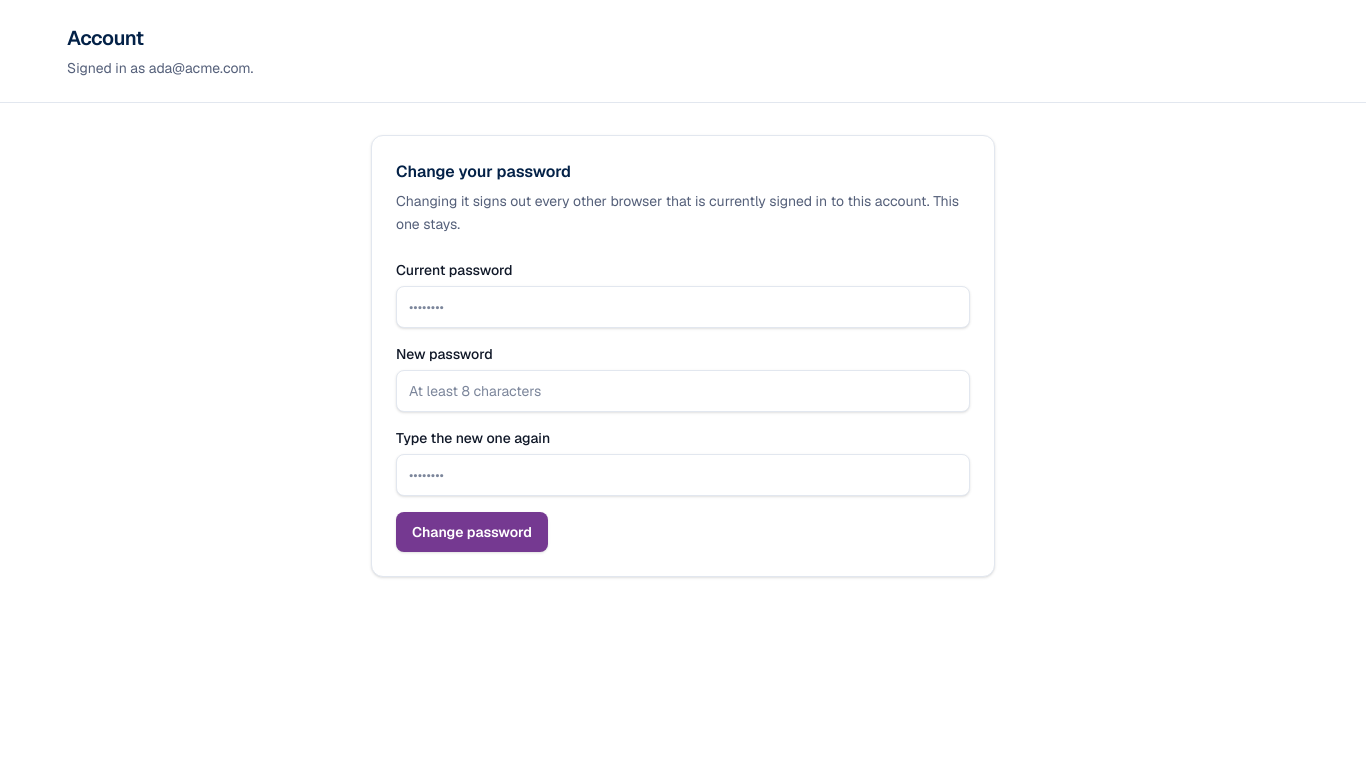
Test: the account screen › shows the server's refusal when the current password is wrong
Type "not-the-old-one" into the password field labelled "Current password" at (683, 306), box [396,286,970,328]
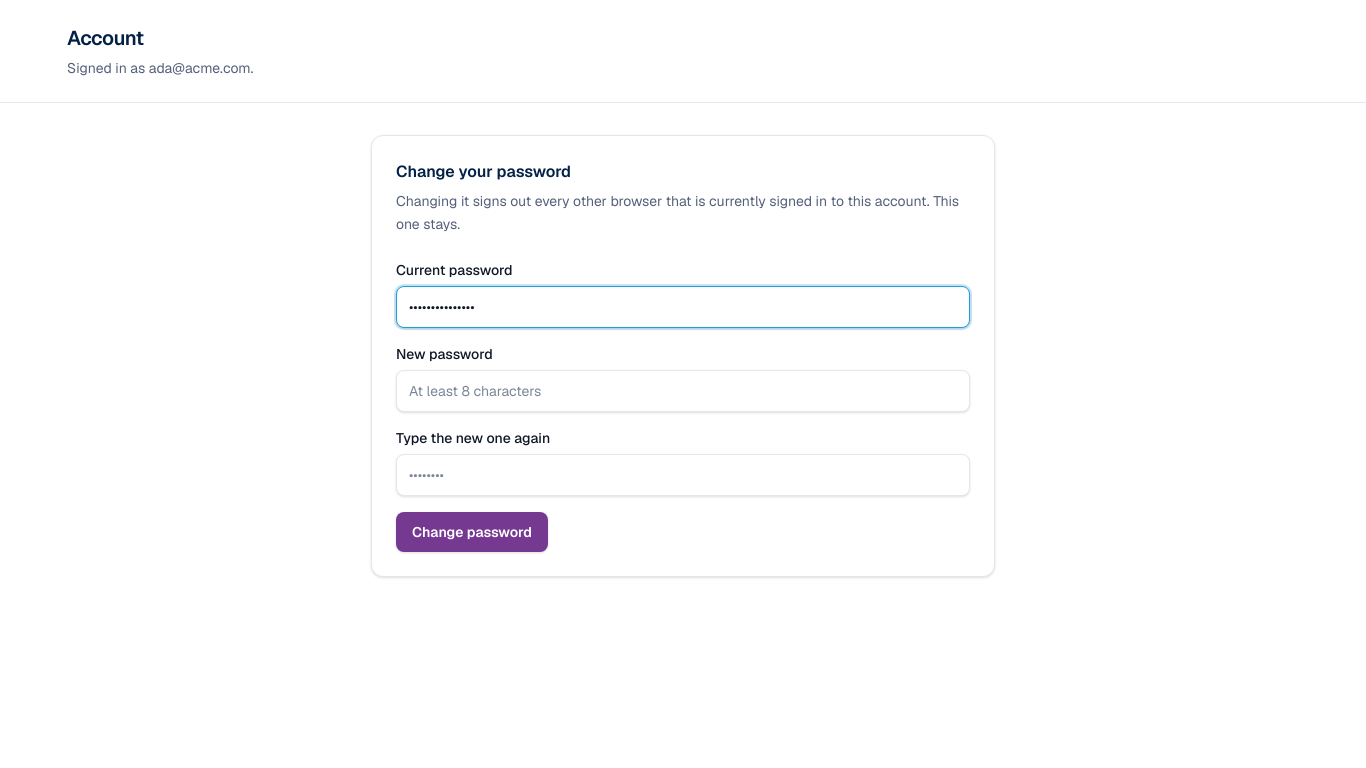
Type "a-much-better-one" into the password field labelled "New password" at (683, 390), box [396,370,970,412]
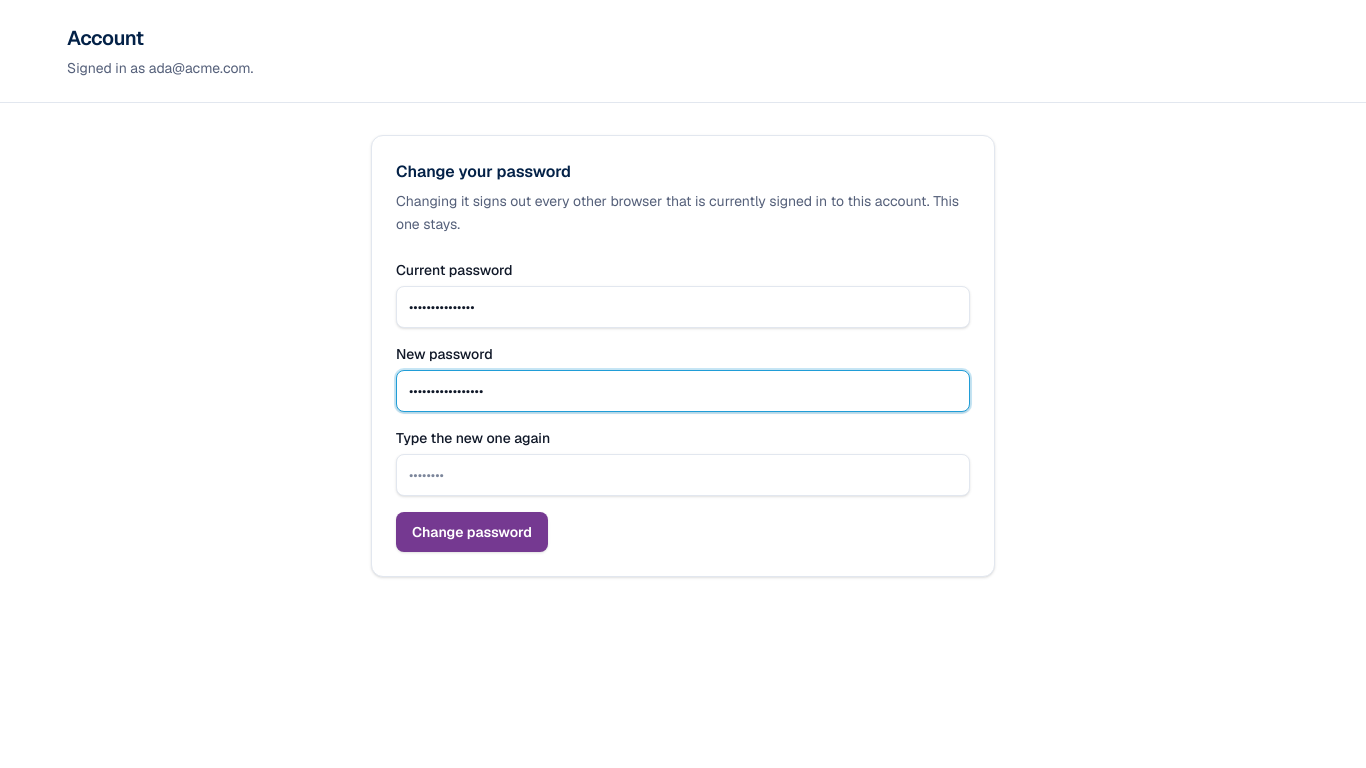
Type "a-much-better-one" into the password field labelled "Type the new one again" at (683, 474), box [396,454,970,496]
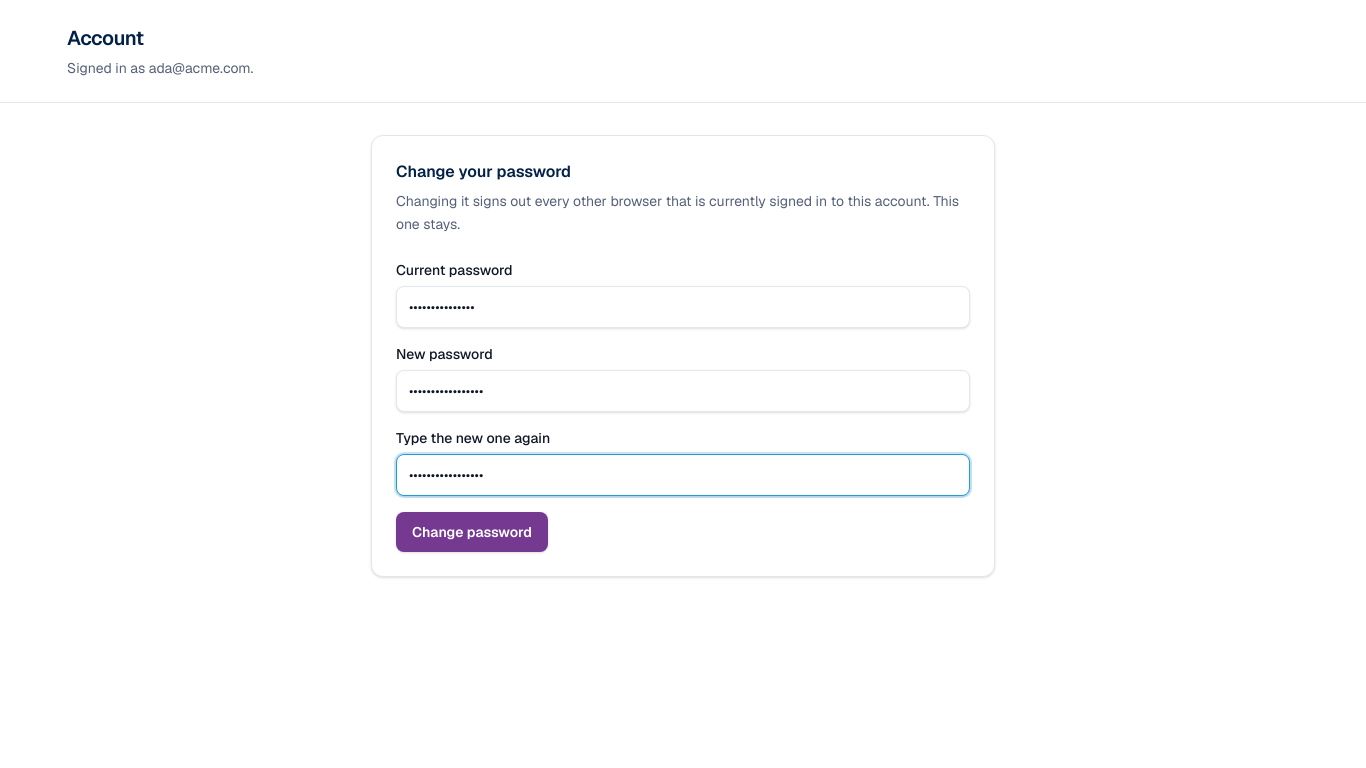
Click the button "Change password" at (472, 532), box [396,512,548,552]
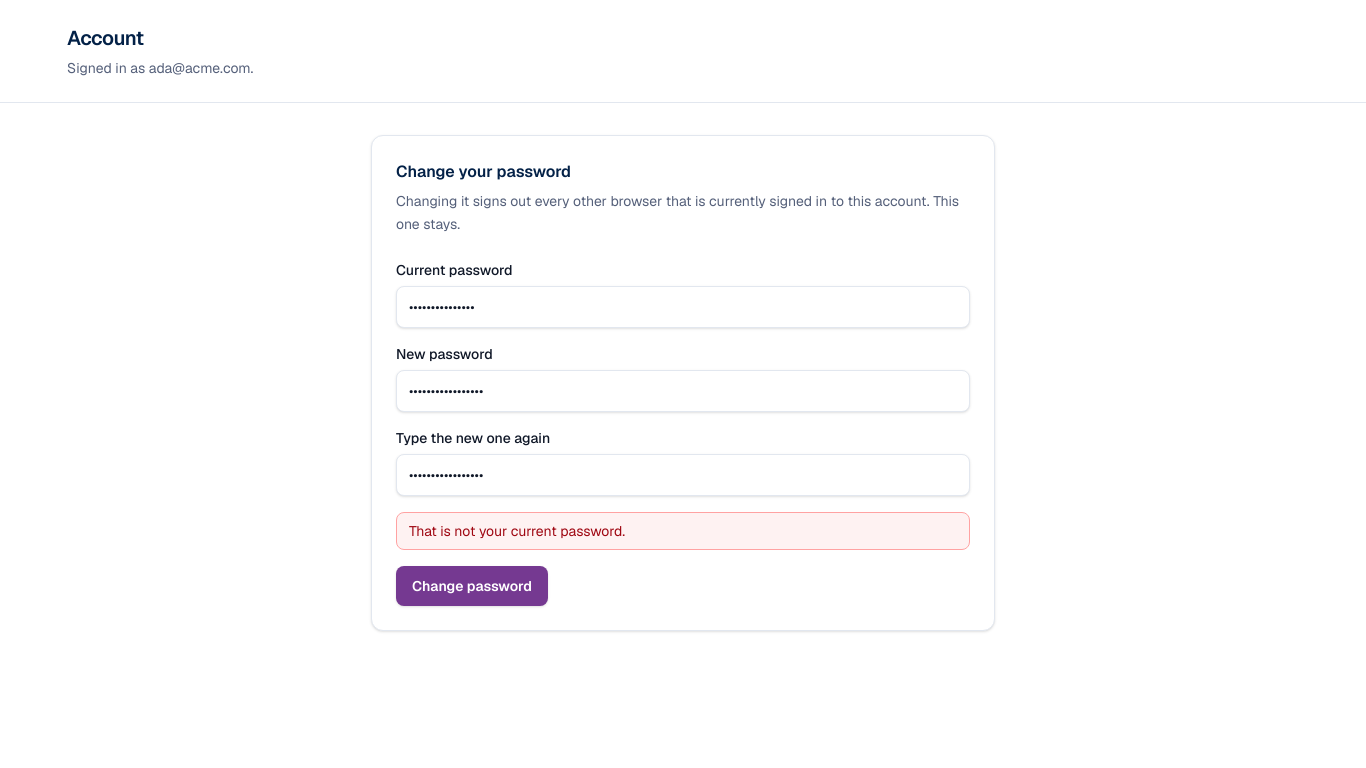
Expected: the message shows "not your current password", [409,522,625,540]
